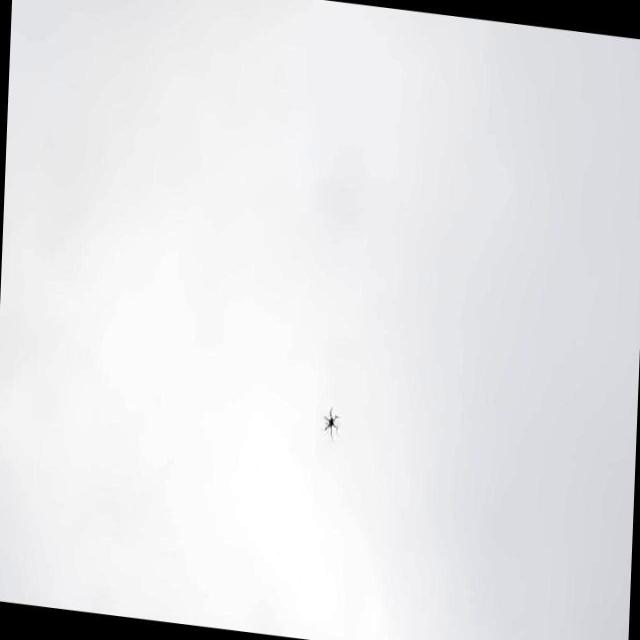drone: (322, 404, 342, 438)
